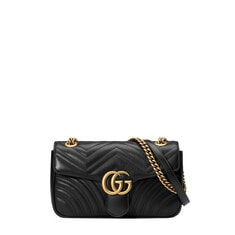Gucci: (48, 134, 189, 222), (101, 166, 143, 203)
